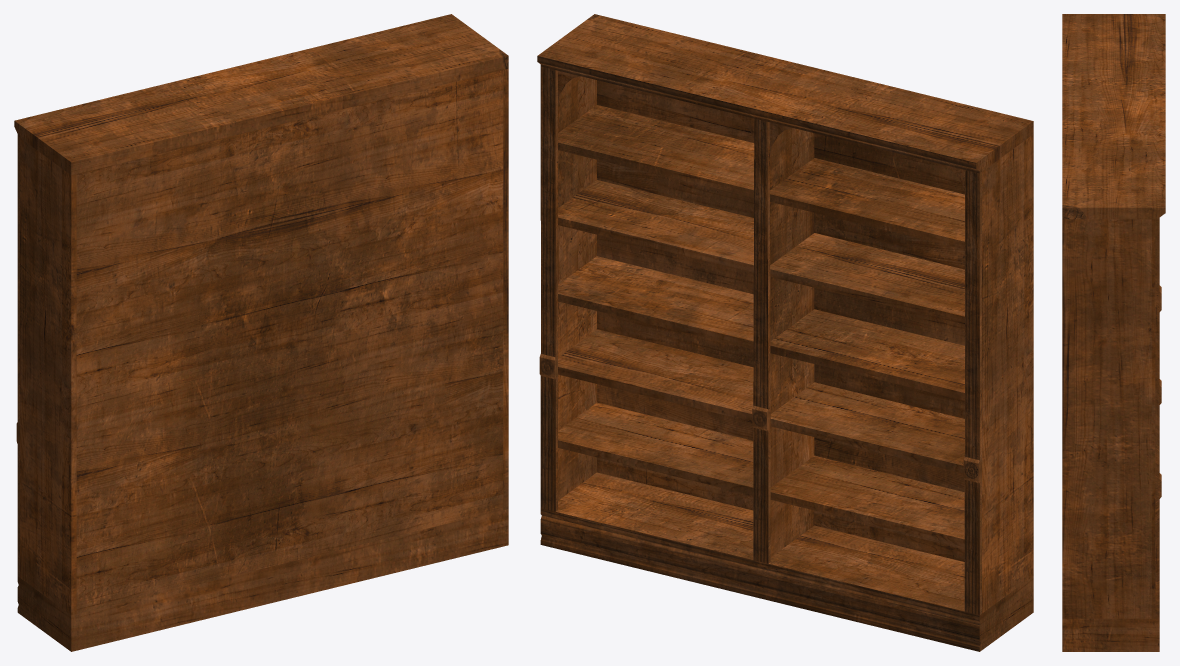
The model's file is Cubbert_B1.fbx.
3 views of the same model, side by side, from view 1: azimuth 30°, elevation 25°; view 2: azimuth 150°, elevation 25°; view 3: azimuth 270°, elevation 25° (orthographic). The views are drawn at different scales.
Visible parts, largest first — view 1: Cubbert_B1; view 2: Cubbert_B1; view 3: Cubbert_B1.
Boxes of the visible parts, box(x1,y1,x2,y2) form: Cubbert_B1: box(14, 14, 508, 651); Cubbert_B1: box(537, 14, 1033, 651); Cubbert_B1: box(1062, 14, 1165, 651).
Size of the model in its own units: 2.45 by 2.62 by 0.5525.
